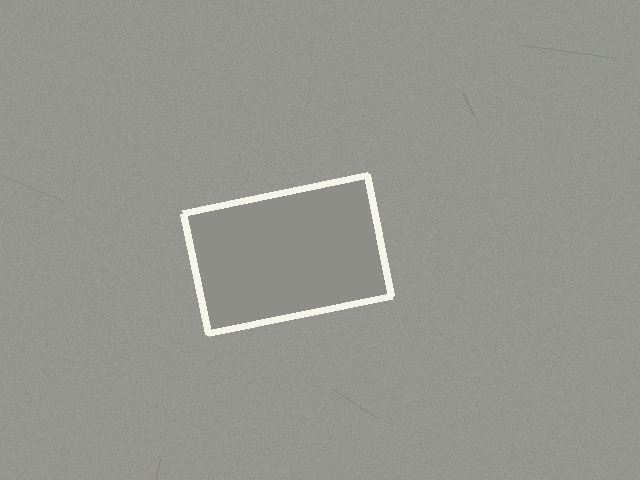parking_area: (183, 175, 391, 333)
